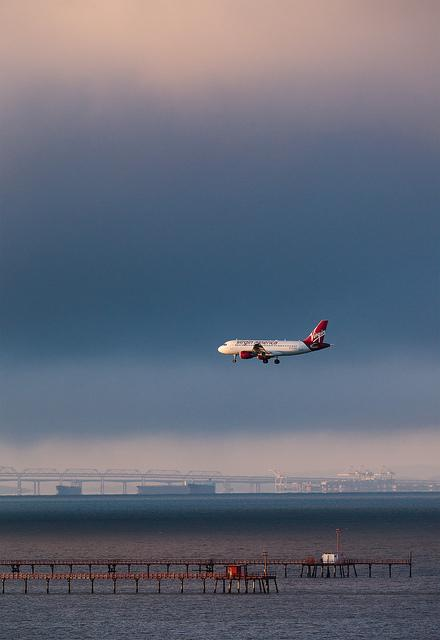airplane: (216, 317, 336, 367)
